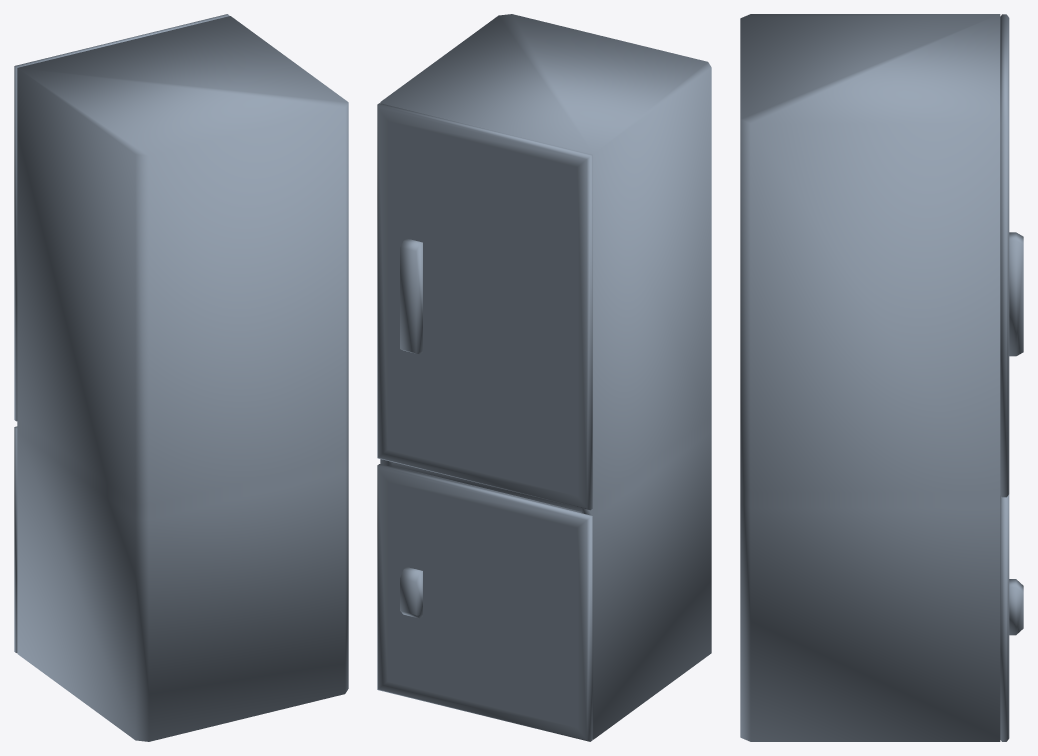
Rendered from refrigerator.fbx.
3 renders of one model, left to right at view 1: azimuth 30°, elevation 25°; view 2: azimuth 150°, elevation 25°; view 3: azimuth 270°, elevation 25°, orthographic. The views are drawn at different scales.
Visible parts, largest first — view 1: refrigerator; view 2: refrigerator; view 3: refrigerator.
Part boxes in pixels (x1,y1,x2,y2): refrigerator: [14, 14, 348, 741]; refrigerator: [377, 14, 711, 741]; refrigerator: [740, 14, 1023, 741].
Bounding box in the file's own units: 218 × 200 × 525.
